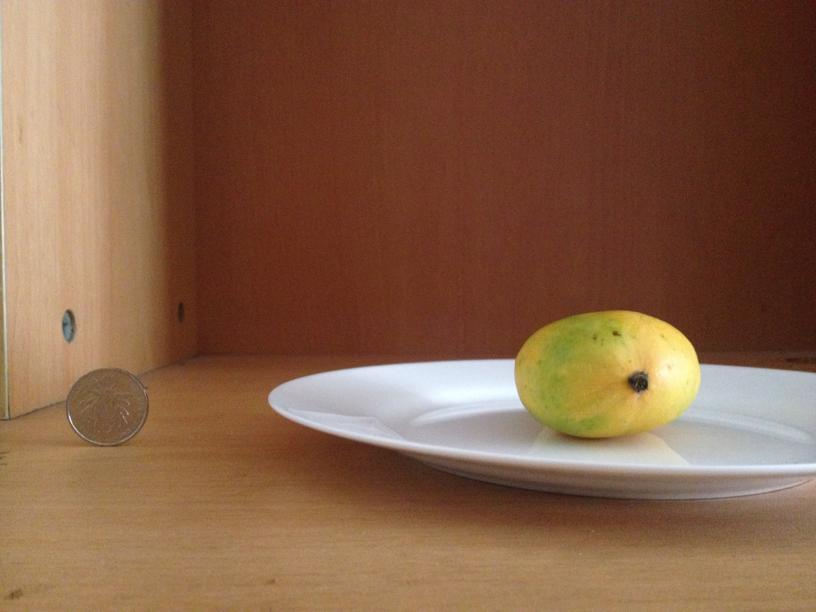coin: (65, 367, 150, 448)
mango: (516, 308, 700, 438)
